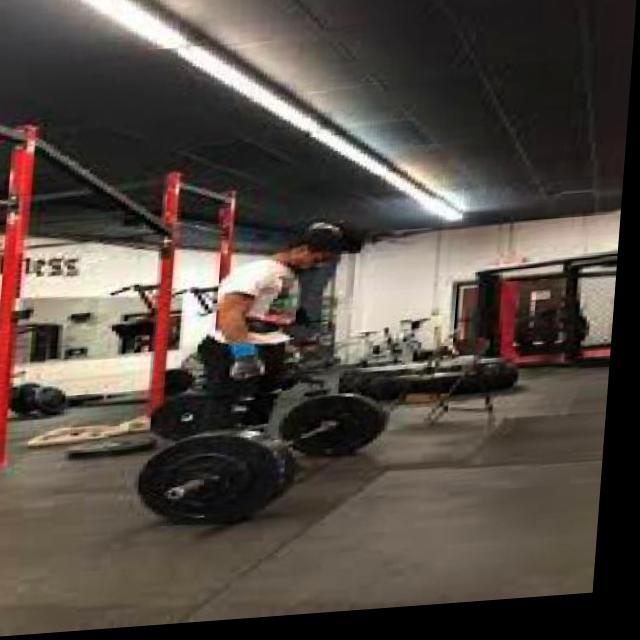barbell: (138, 428, 296, 540)
